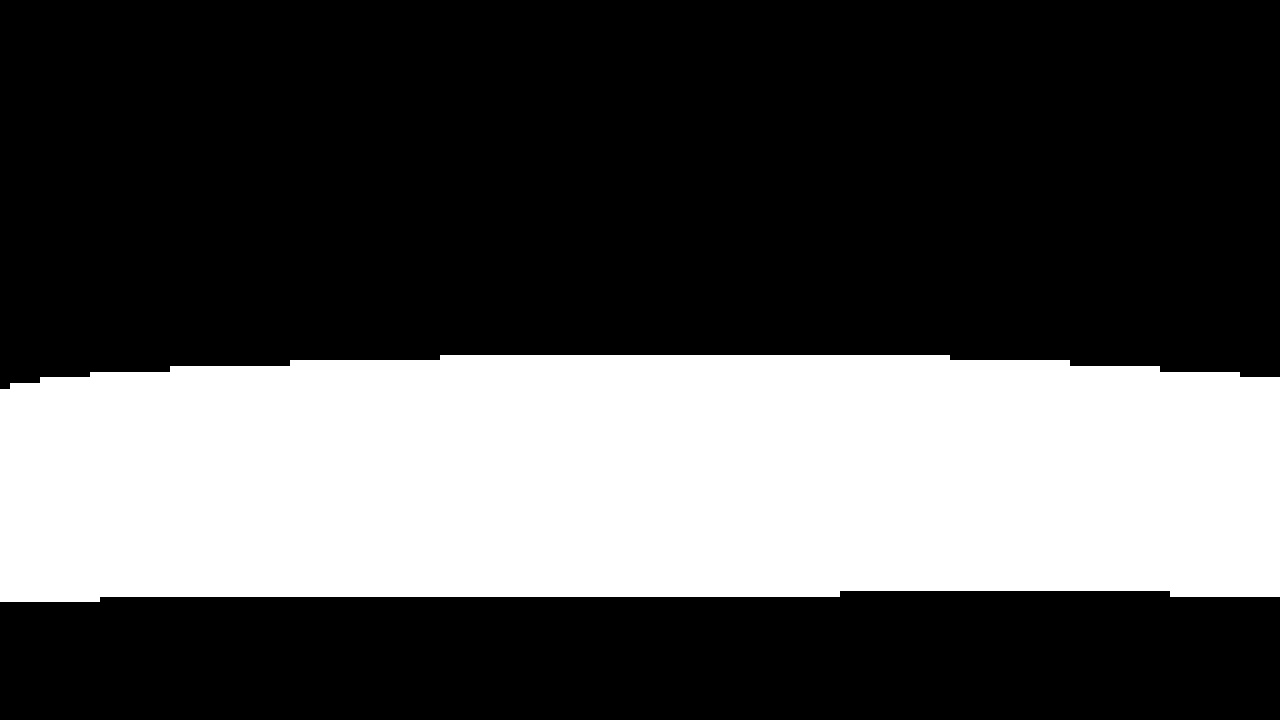Turbine: (6, 352, 1260, 618)
